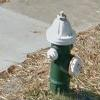Hydrant: (39, 10, 83, 93)
